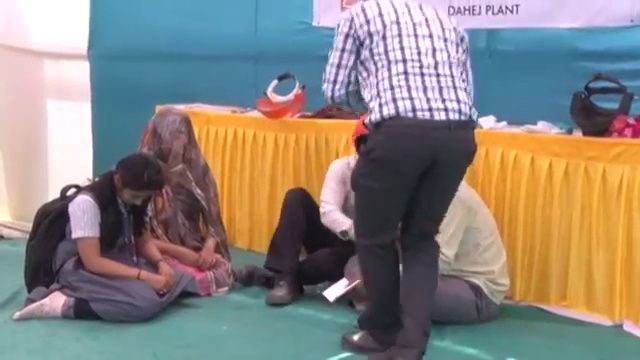helmet: (349, 113, 373, 143)
helmet_off: (146, 110, 200, 175), (104, 152, 163, 209)
helmet_on: (348, 113, 377, 167)
person: (321, 2, 478, 360), (14, 147, 192, 324), (233, 113, 375, 303), (138, 101, 229, 293), (395, 181, 512, 324)
